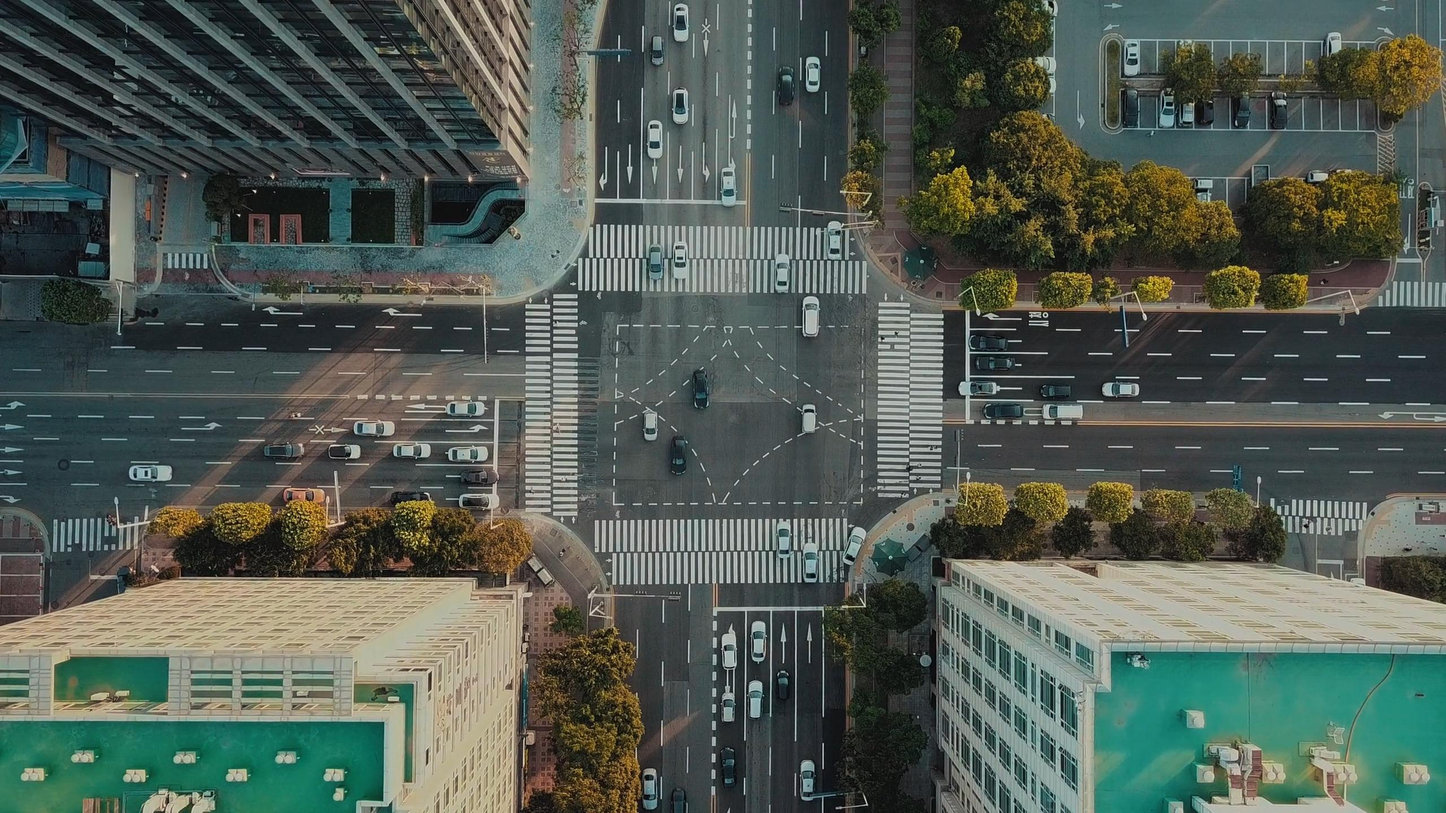car: (842, 526, 867, 566), (458, 492, 500, 511), (263, 442, 305, 460), (799, 759, 817, 801), (747, 679, 765, 721), (749, 620, 767, 662), (802, 296, 820, 338), (1041, 402, 1083, 420), (129, 465, 172, 482), (448, 445, 488, 463), (720, 167, 738, 207), (968, 334, 1008, 352), (353, 420, 395, 437), (642, 768, 659, 810), (1269, 90, 1287, 129), (669, 436, 687, 475), (692, 370, 710, 409), (720, 747, 737, 788), (1121, 87, 1138, 128), (671, 87, 689, 125), (802, 543, 819, 583), (672, 3, 689, 43), (778, 66, 795, 106), (983, 402, 1023, 419), (720, 633, 738, 670), (392, 442, 431, 459), (646, 120, 663, 159), (461, 469, 499, 486), (447, 400, 485, 417), (775, 521, 792, 559), (1101, 381, 1139, 398), (827, 220, 843, 260), (774, 254, 790, 293), (974, 356, 1015, 371), (1123, 39, 1139, 77), (958, 381, 996, 397), (327, 443, 362, 460), (805, 56, 821, 93), (673, 241, 688, 279), (648, 244, 663, 280), (801, 403, 818, 434), (649, 35, 665, 67), (720, 692, 736, 723), (642, 411, 658, 441), (1040, 384, 1072, 398), (776, 669, 790, 700)
